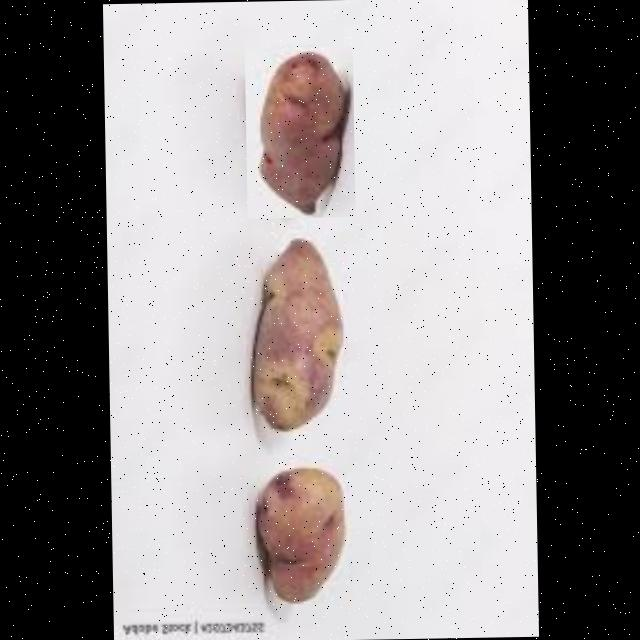Damaged potato: (242, 231, 350, 438), (243, 46, 354, 218), (250, 462, 352, 613)
